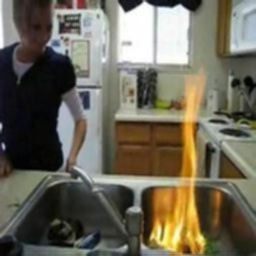fire: (146, 74, 213, 256)
